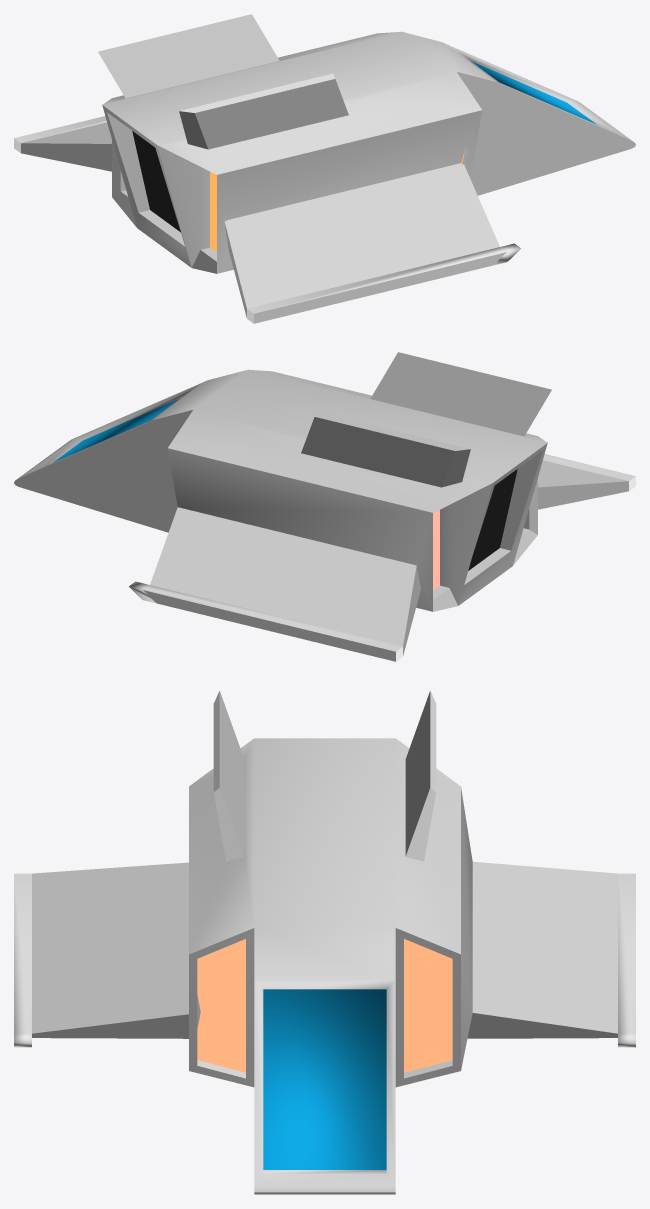
Rendered from ship.glb.
The picture shows the model from 3 angles, top to bottom: view 1: azimuth 30°, elevation 25°; view 2: azimuth 150°, elevation 25°; view 3: azimuth 270°, elevation 25°; orthographic projection. The views are drawn at different scales.
Visible parts, largest first — view 1: Cube; view 2: Cube; view 3: Cube.
Part boxes in pixels (x1,y1,x2,y2): Cube: (14, 14, 635, 323); Cube: (14, 352, 635, 661); Cube: (14, 691, 635, 1194).
Size of the model in its own units: 10.13 by 3.5 by 8.79.
